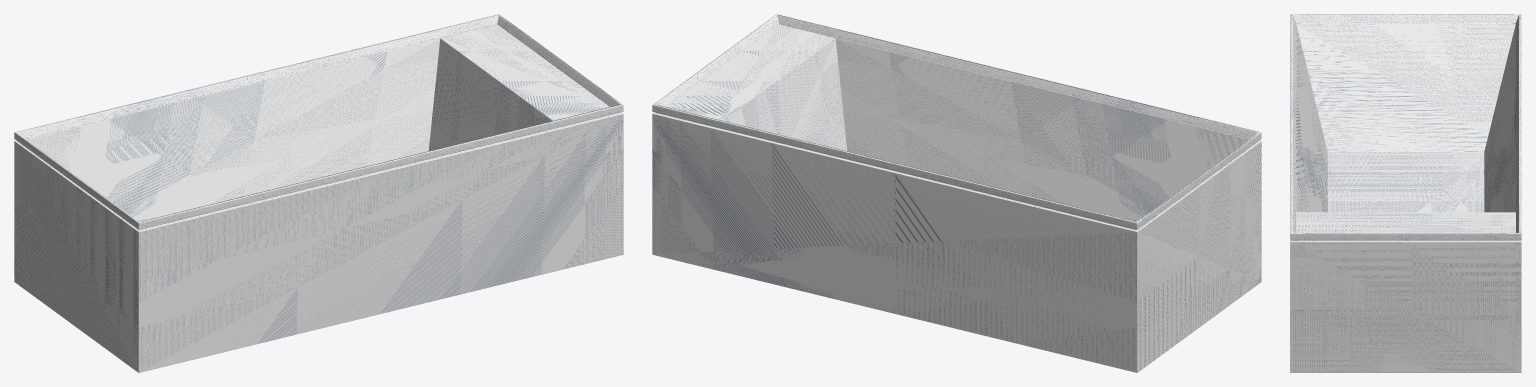
The picture shows the model from 3 angles, left to right: view 1: azimuth 30°, elevation 25°; view 2: azimuth 150°, elevation 25°; view 3: azimuth 270°, elevation 25°; orthographic projection. The views are drawn at different scales.
Visible parts, largest first — view 1: Box007 (×2), Box004, Box001 (×2), instance_7; view 2: Box007 (×2), Box004, Box001 (×2), instance_7; view 3: Box007 (×2), Box006, Box002, Box004 (×2), instance_7, Box001.
Boxes of the visible parts, x1=… form: Box007 (×2): x1=14, y1=112, x2=623, y2=372; Box004: x1=26, y1=38, x2=440, y2=221; Box001 (×2): x1=428, y1=24, x2=609, y2=150; instance_7: x1=14, y1=14, x2=623, y2=229; Box007 (×2): x1=652, y1=112, x2=1261, y2=372; Box004: x1=835, y1=38, x2=1249, y2=221; Box001 (×2): x1=666, y1=24, x2=847, y2=150; instance_7: x1=652, y1=14, x2=1261, y2=229; Box007 (×2): x1=1290, y1=240, x2=1521, y2=372; Box006: x1=1296, y1=23, x2=1515, y2=151; Box002: x1=1327, y1=152, x2=1484, y2=212; Box004 (×2): x1=1296, y1=25, x2=1515, y2=212; instance_7: x1=1290, y1=14, x2=1521, y2=240; Box001: x1=1296, y1=212, x2=1515, y2=232.
Size of the model in its own units: 70.87 by 31.5 by 20.93.
